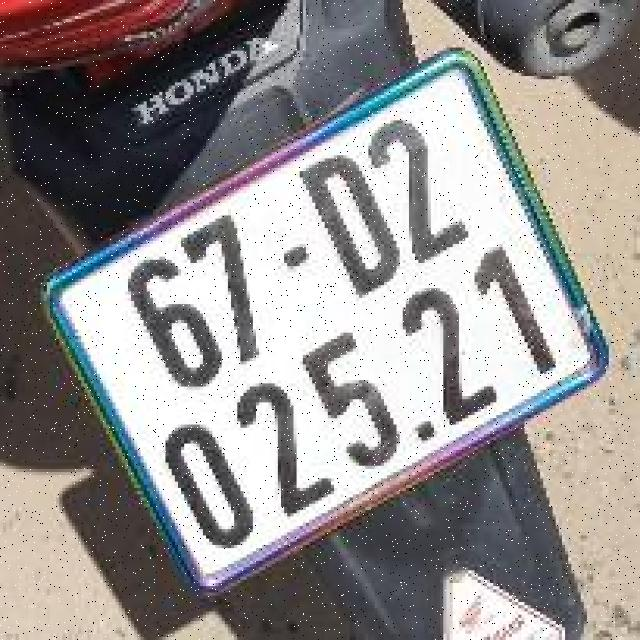0: (145, 400, 273, 569)
1: (462, 224, 593, 396)
2: (344, 102, 486, 282), (382, 269, 521, 444), (222, 359, 358, 533)
5: (289, 317, 420, 488)
6: (112, 243, 236, 407)
7: (165, 202, 299, 380)
D: (285, 136, 418, 313)
